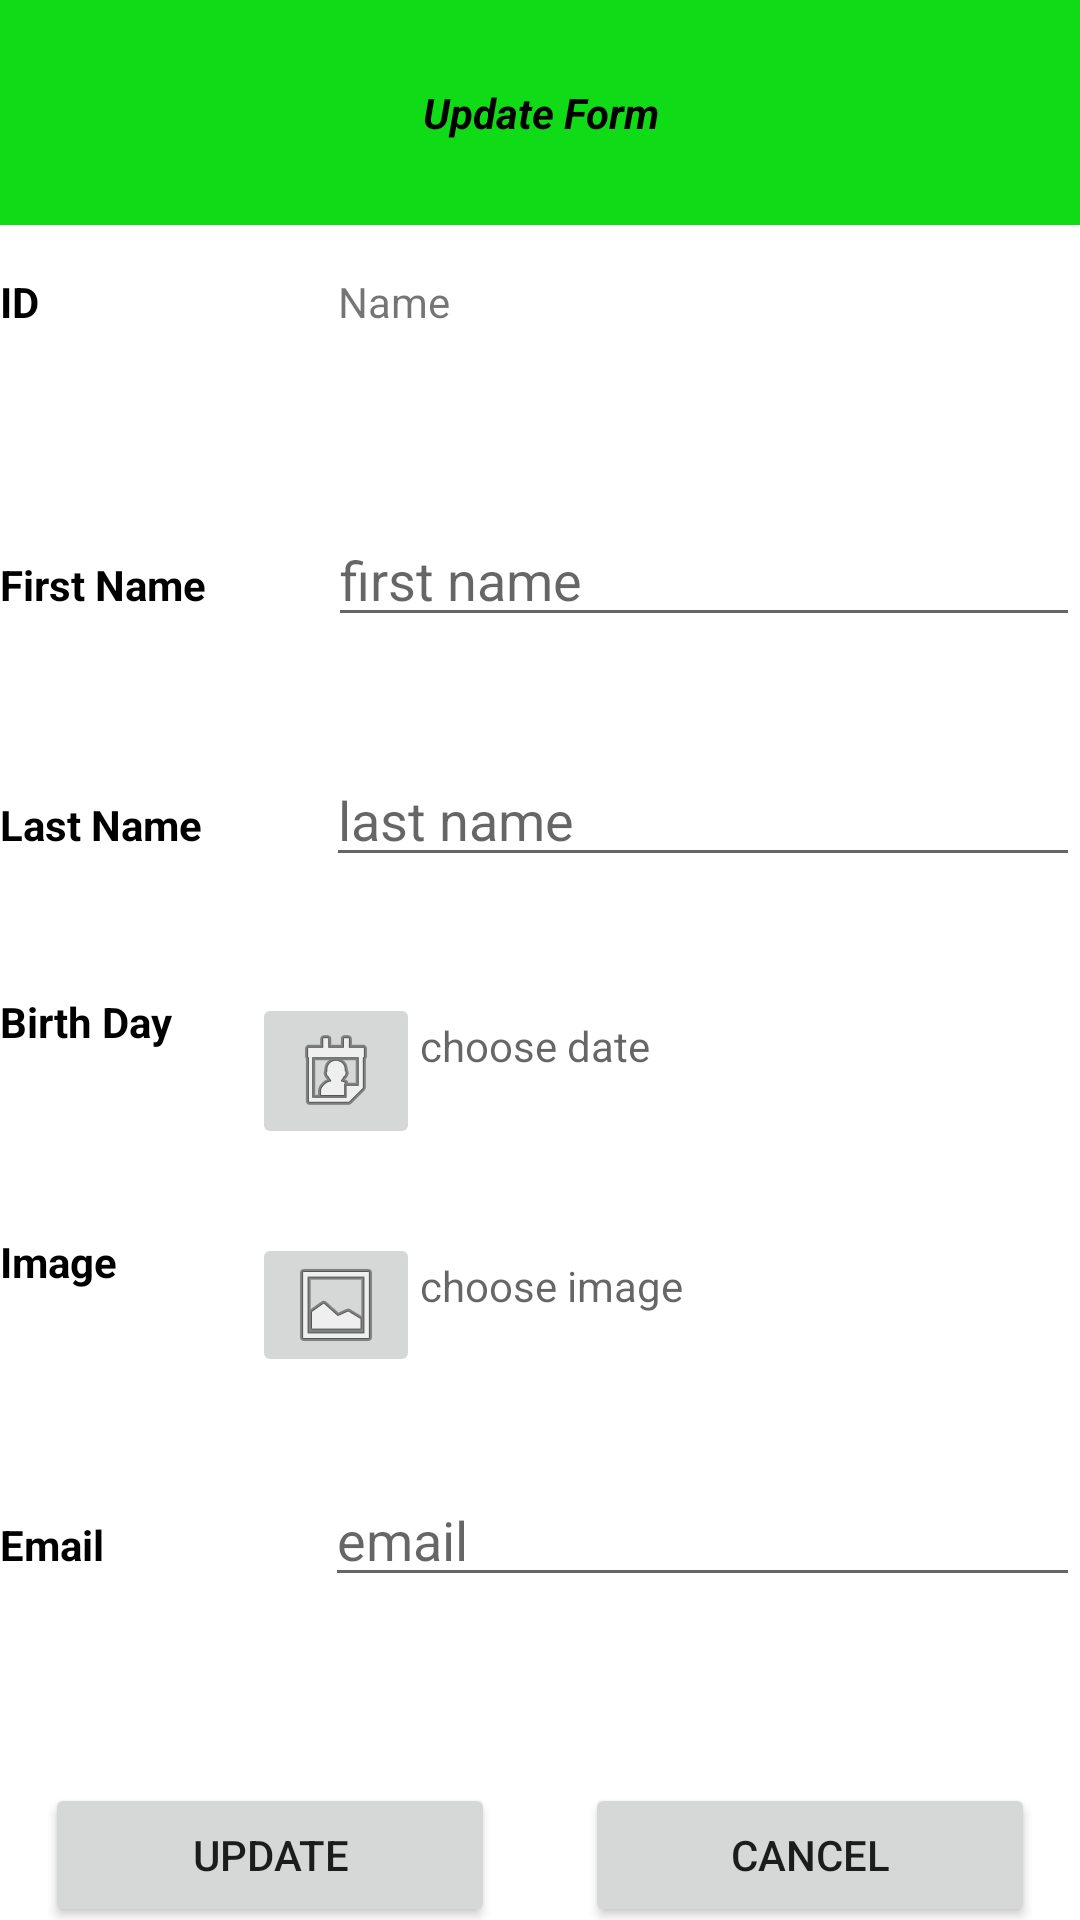

Icon click points for this 1080px×1920px phone screenshot, format (x=x, y=y):
calendar: (x=336, y=1071)
gallery: (x=336, y=1305)
